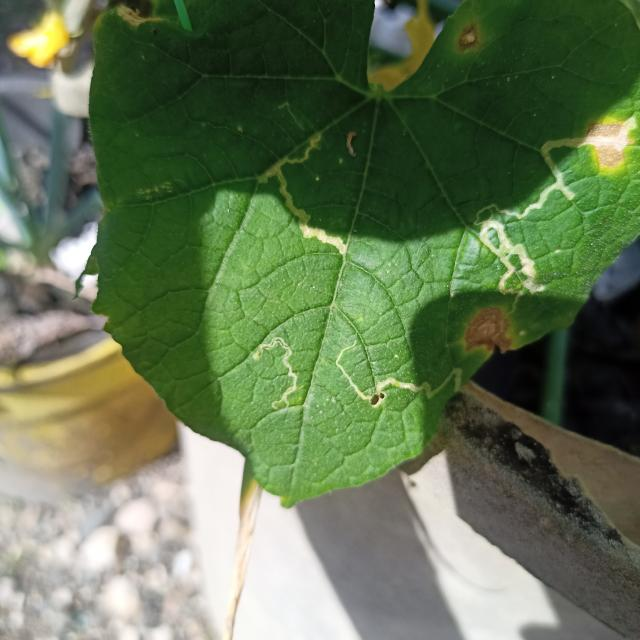disease_cucumber: (458, 301, 514, 360), (585, 118, 628, 168), (454, 17, 483, 57)
